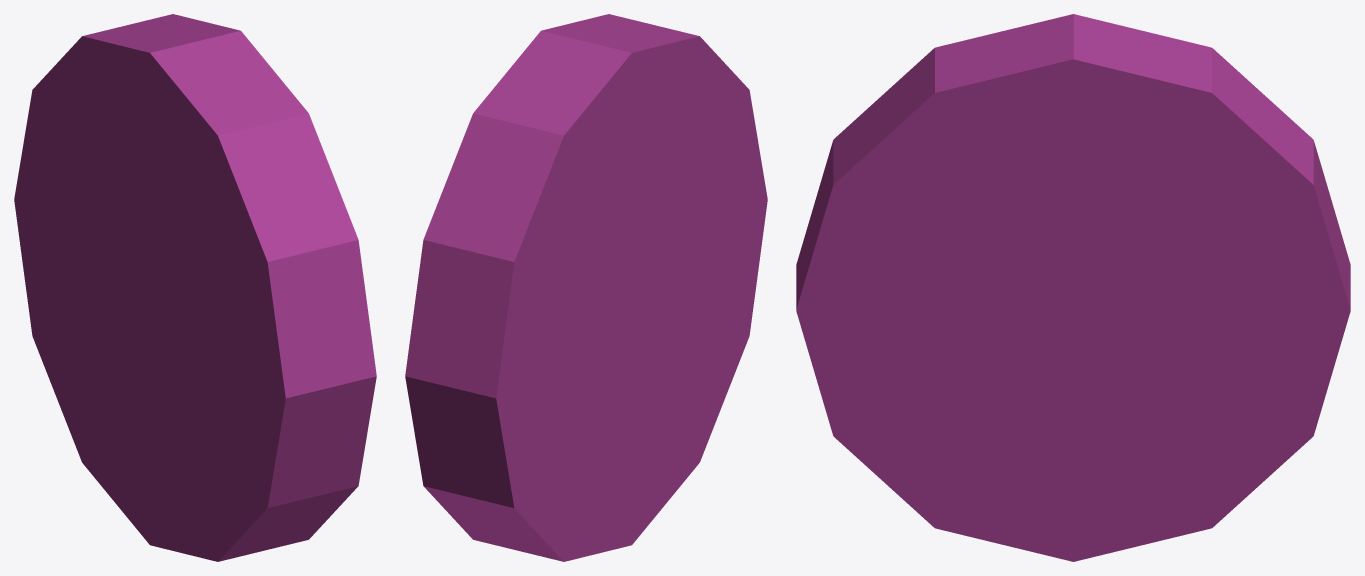
The model's file is SM_Bld_Mine_Wheel_Cog_01_Collision.fbx.
3 renders of one model, left to right at view 1: azimuth 30°, elevation 25°; view 2: azimuth 150°, elevation 25°; view 3: azimuth 270°, elevation 25°, orthographic. The views are drawn at different scales.
Parts seen in each view (by area): view 1: SM_Bld_Mine_Wheel_Cog_01_Collision; view 2: SM_Bld_Mine_Wheel_Cog_01_Collision; view 3: SM_Bld_Mine_Wheel_Cog_01_Collision.
Boxes of the visible parts, x1,y1,x2,y2 form: SM_Bld_Mine_Wheel_Cog_01_Collision: [14, 14, 376, 561]; SM_Bld_Mine_Wheel_Cog_01_Collision: [405, 14, 767, 561]; SM_Bld_Mine_Wheel_Cog_01_Collision: [796, 14, 1350, 561].
Bounding box in the file's own units: 113 × 582 × 582.
